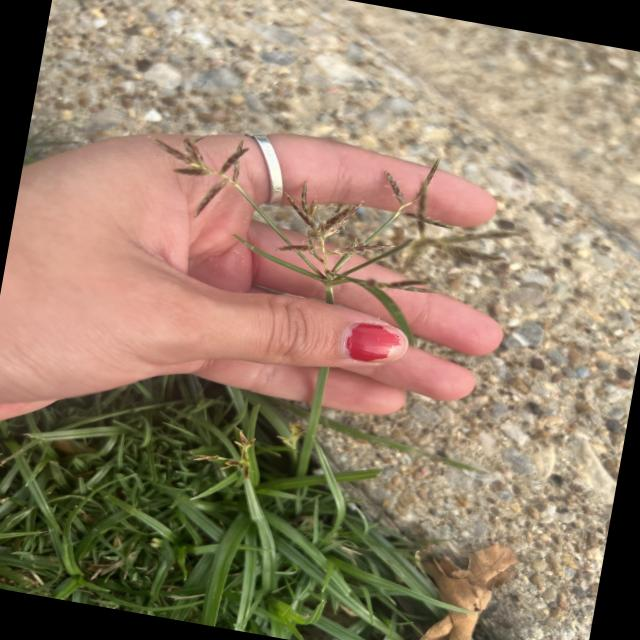cyperus: (126, 105, 478, 320), (182, 415, 274, 491), (270, 413, 312, 454)
